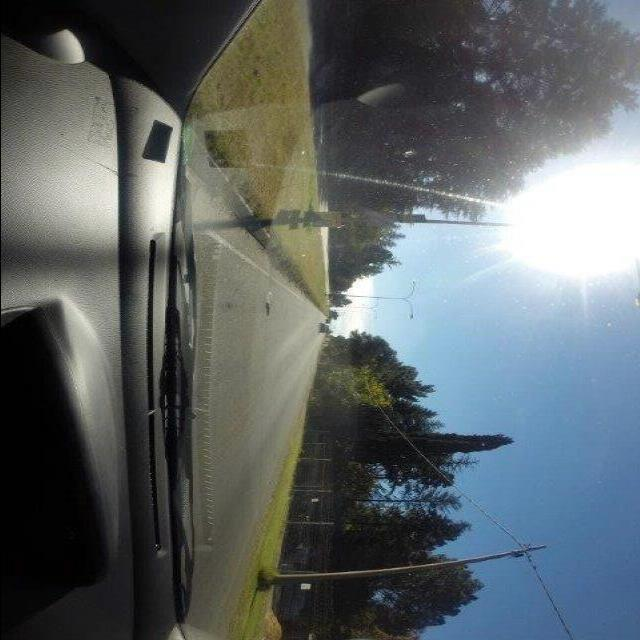lubang: (261, 298, 275, 320)
